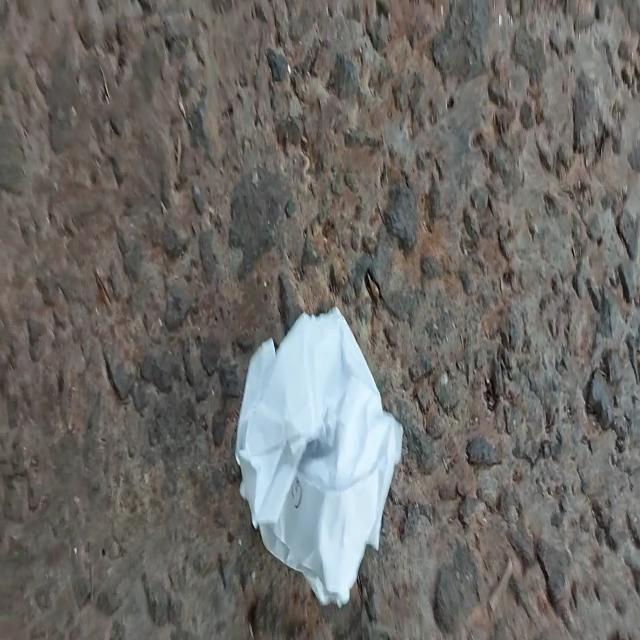paper: (217, 294, 432, 626)
